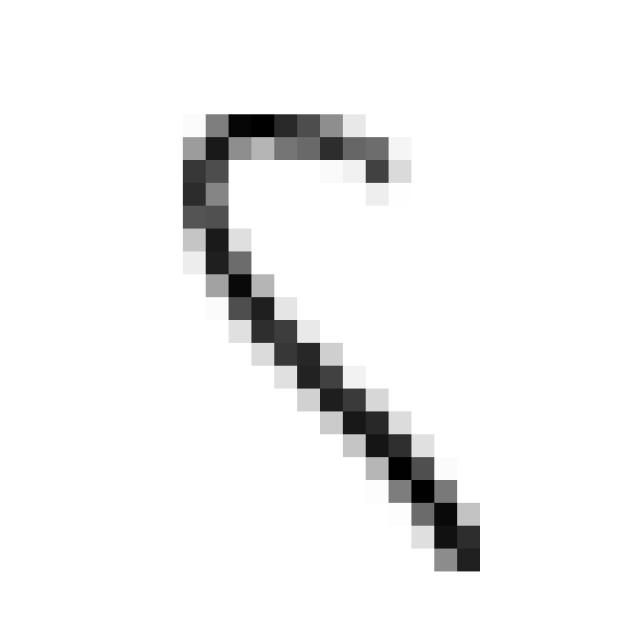2 -two-: (165, 96, 500, 593)
